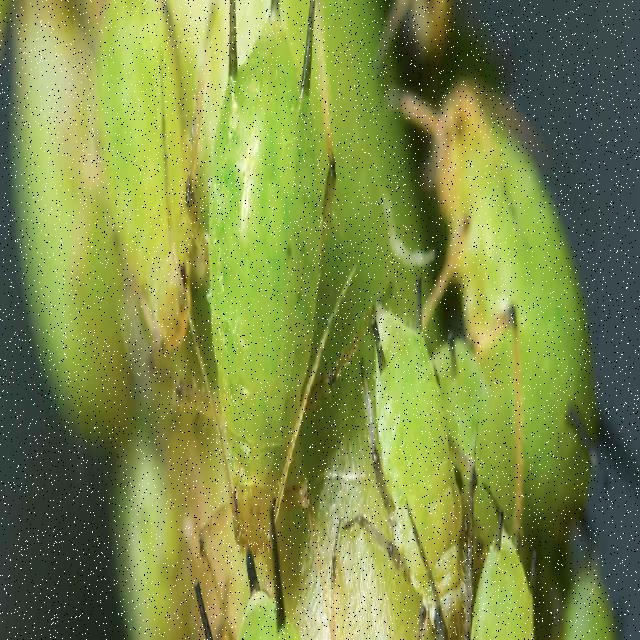Aphids: (195, 6, 340, 592)
